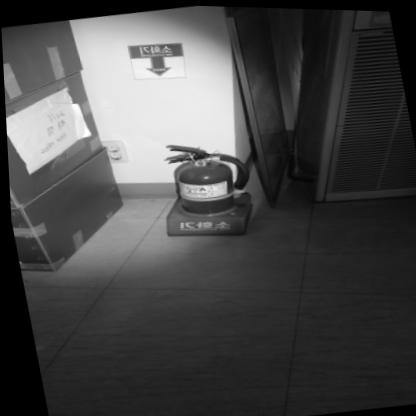FE: (149, 136, 257, 244)
